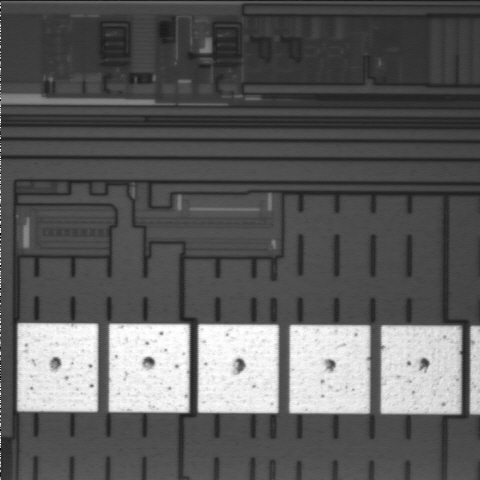pad: (109, 324, 190, 413), (198, 324, 279, 413), (289, 325, 370, 413), (18, 323, 98, 412), (381, 326, 461, 414)
